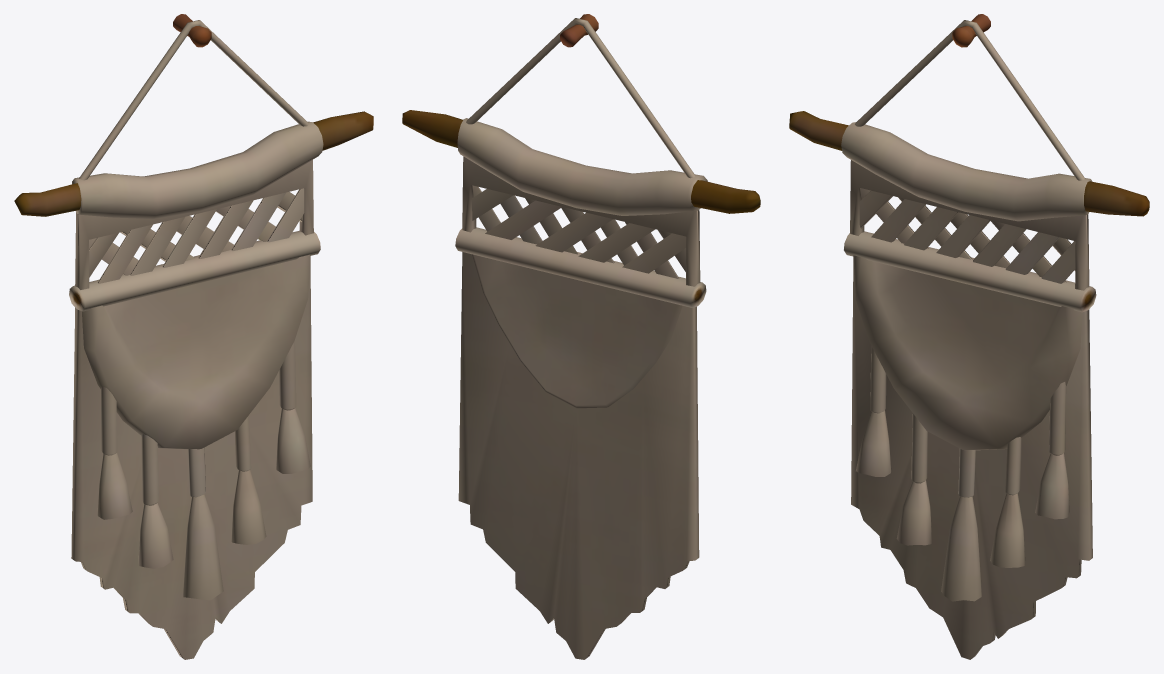
The picture shows the model from 3 angles, left to right: view 1: azimuth 30°, elevation 25°; view 2: azimuth 150°, elevation 25°; view 3: azimuth 330°, elevation 25°; orthographic projection.
Size of the model in its own units: 7.81 by 13.26 by 1.14.
Materials: 1 (1 with a texture image).
